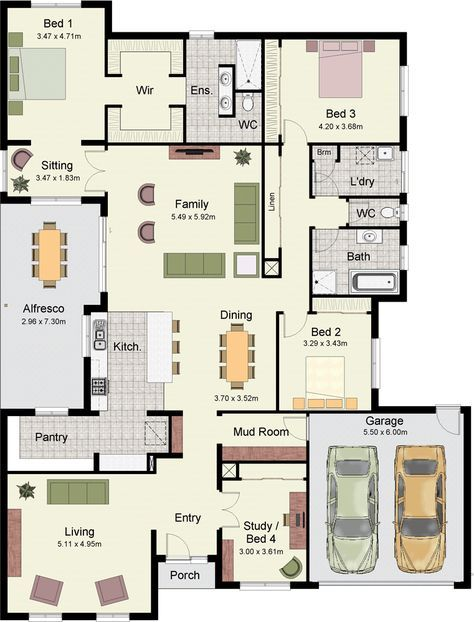door: (219, 487, 247, 532), (83, 148, 107, 195), (163, 529, 193, 555), (282, 116, 307, 139), (438, 414, 463, 437), (281, 316, 306, 339), (314, 232, 339, 255), (279, 414, 304, 435)
room: (1, 469, 160, 622), (102, 22, 268, 148), (260, 26, 412, 148), (2, 1, 110, 149), (1, 1, 108, 147), (212, 456, 312, 593), (271, 310, 378, 415), (306, 225, 412, 301), (1, 408, 102, 476), (307, 140, 414, 201)
